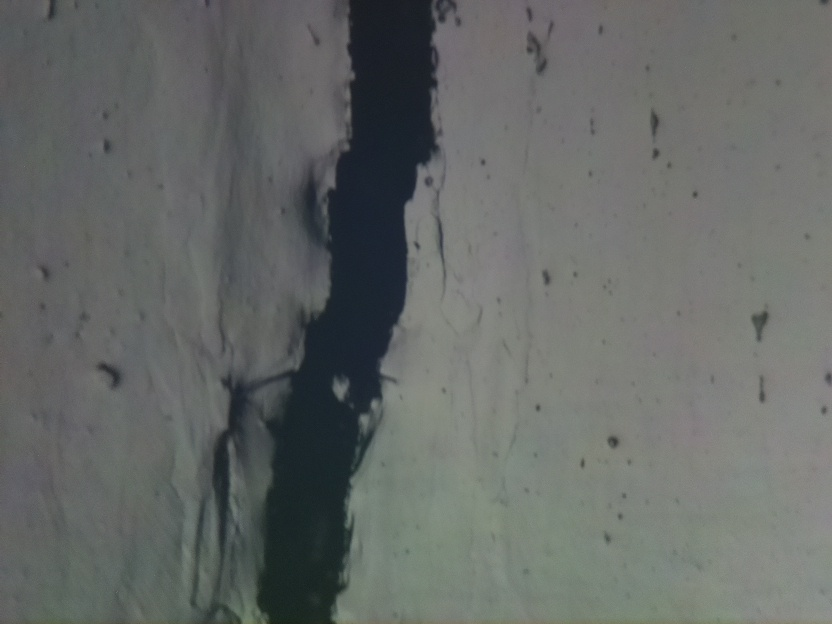crack: (260, 0, 438, 620), (217, 375, 251, 590), (434, 201, 451, 299)
